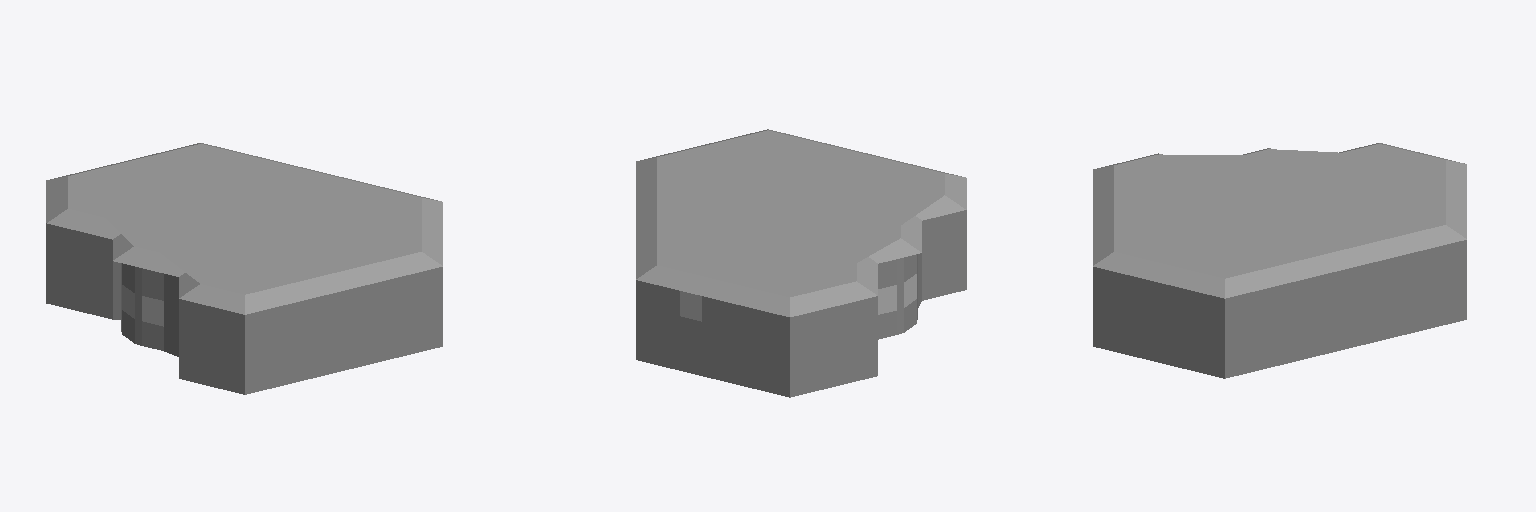
The model's file is interiors_modular.obj.
3 renders of one model, left to right at view 1: azimuth 30°, elevation 25°; view 2: azimuth 150°, elevation 25°; view 3: azimuth 270°, elevation 25°, orthographic.
Parts seen in each view (by area): view 1: gp_blueprint_outer_Plane.093, gp_blueprint_shell_Plane.045; view 2: gp_blueprint_outer_Plane.093, gp_blueprint_shell_Plane.045; view 3: gp_blueprint_outer_Plane.093.
Part boxes in pixels (x1,y1,x2,y2): gp_blueprint_outer_Plane.093: (46,143,442,394); gp_blueprint_shell_Plane.045: (122,285,211,361); gp_blueprint_outer_Plane.093: (636,129,966,397); gp_blueprint_shell_Plane.045: (680,274,916,350); gp_blueprint_outer_Plane.093: (1093,143,1466,378).
Bounding box in the file's own units: 26.11 × 6.99 × 26.51.